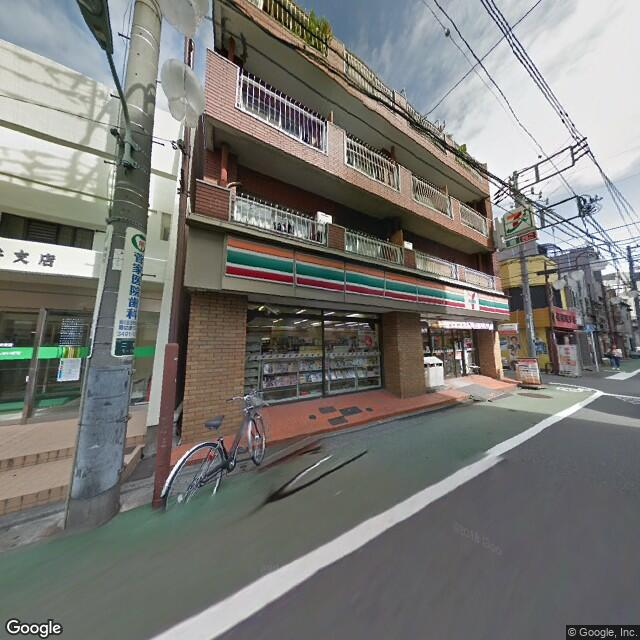7-eleven: (223, 231, 511, 321), (503, 205, 533, 238)
